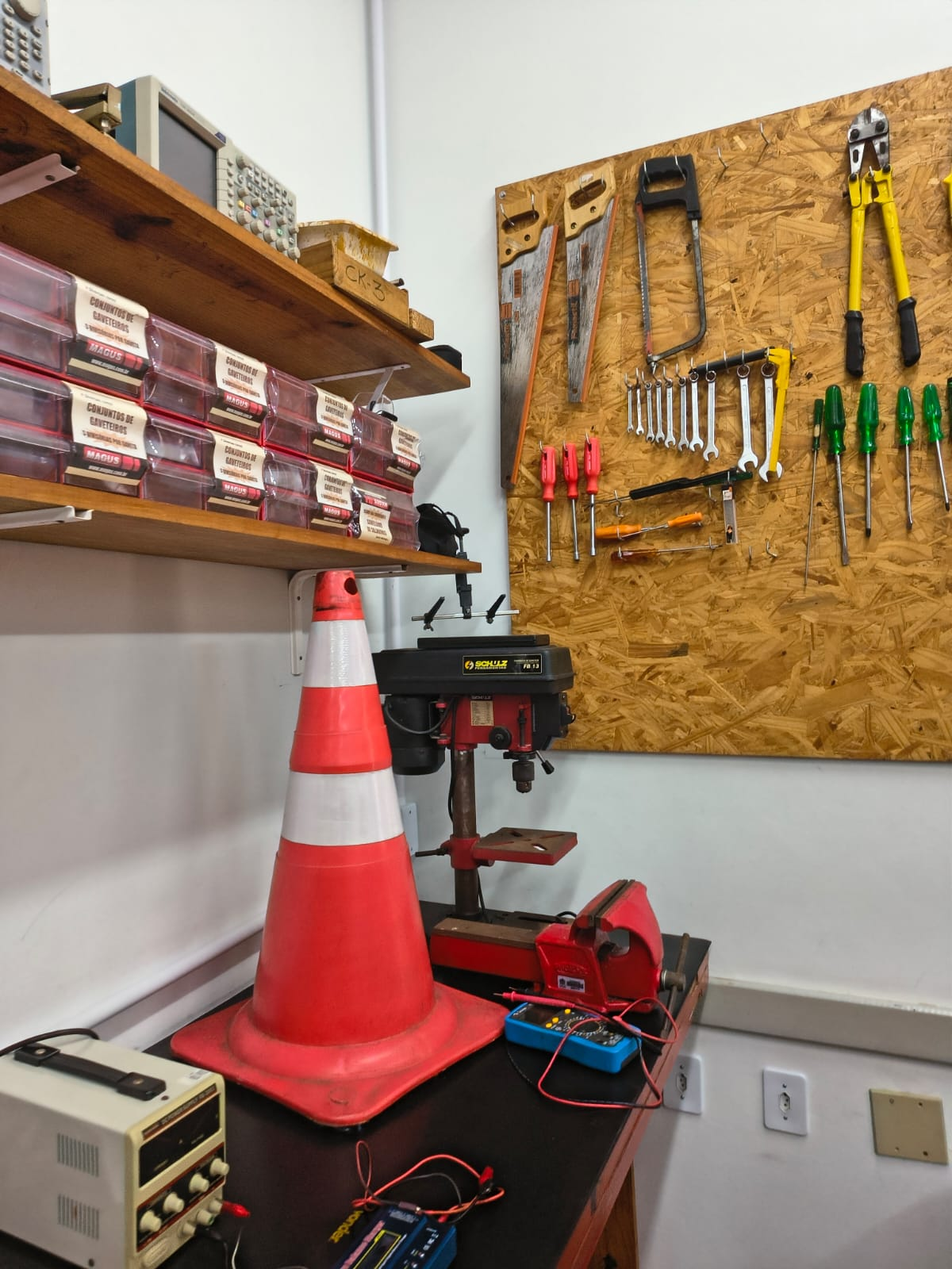cone: (164, 564, 527, 1115)
